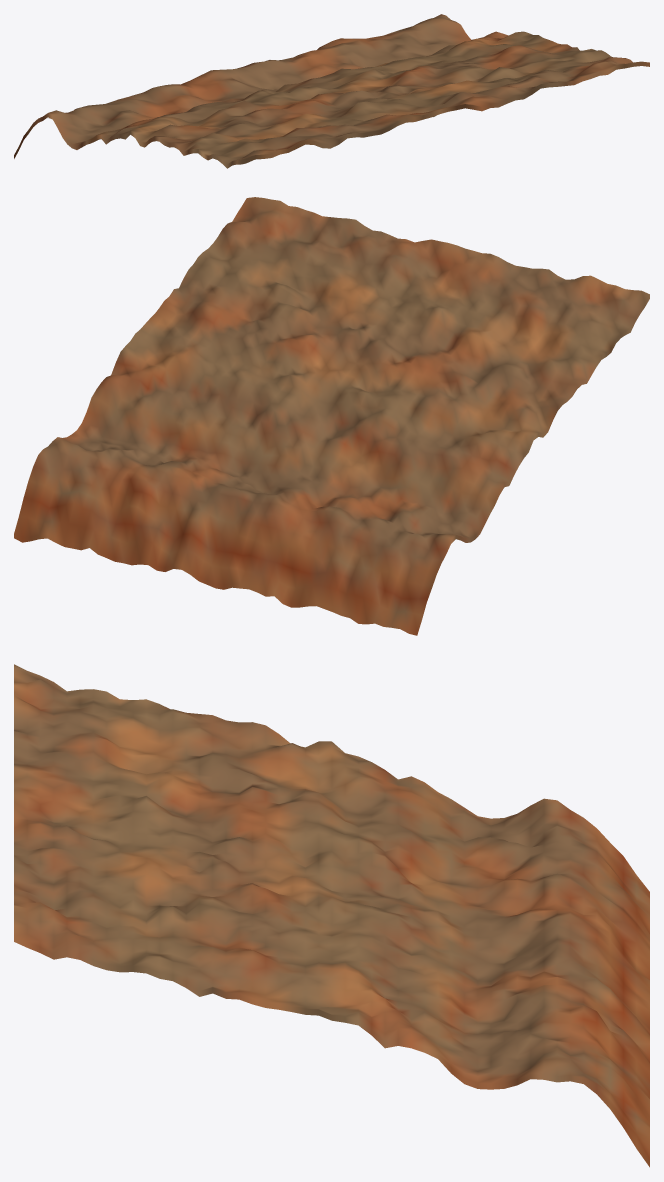
File: terrain-147.glb
3 renders of one model, top to bottom at view 1: azimuth 30°, elevation 25°; view 2: azimuth 150°, elevation 25°; view 3: azimuth 270°, elevation 25°, orthographic. The views are drawn at different scales.
Parts seen in each view (by area): view 1: terrain-147; view 2: terrain-147; view 3: terrain-147.
Boxes of the visible parts, x1=… form: terrain-147: x1=14, y1=14, x2=649, y2=168; terrain-147: x1=14, y1=197, x2=649, y2=635; terrain-147: x1=14, y1=664, x2=649, y2=1167.
Bounding box in the file's own units: 384 × 162 × 384.
